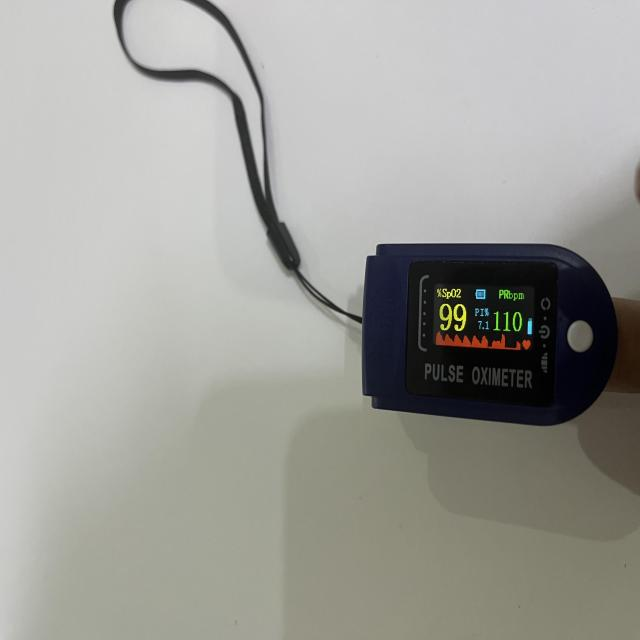spo2: (363, 246, 618, 428)
